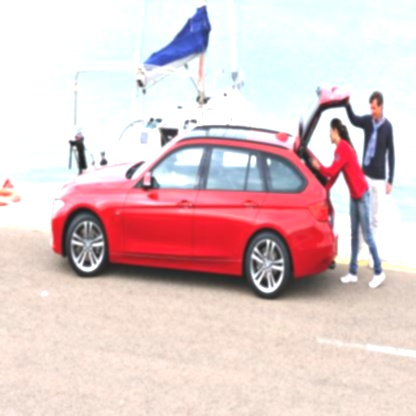Vehicle: (50, 84, 352, 300)
